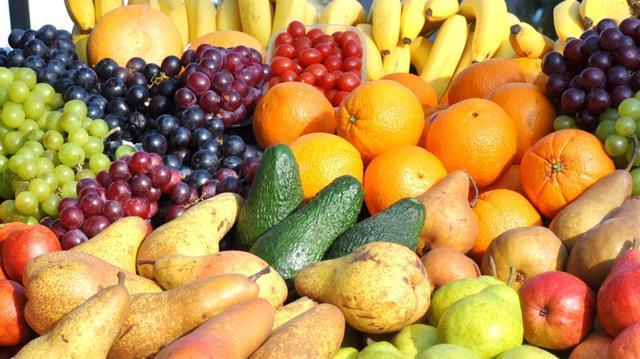apple: (518, 270, 594, 350), (1, 222, 62, 282), (597, 271, 639, 337)
